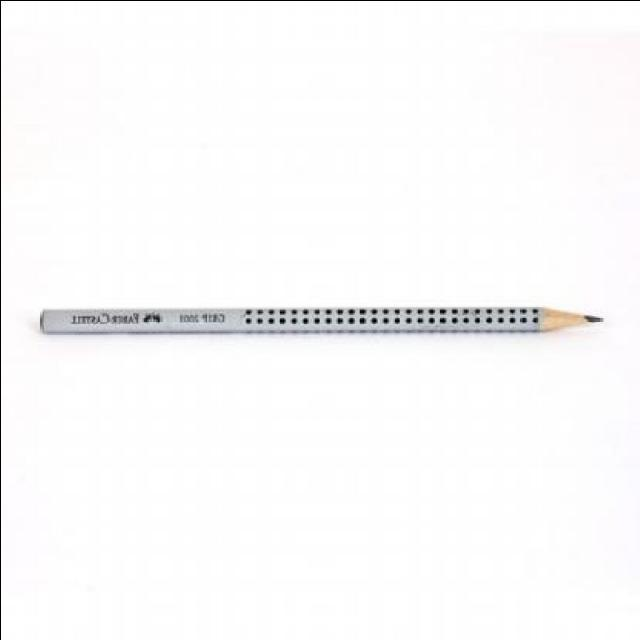pencil: (518, 296, 608, 338)
